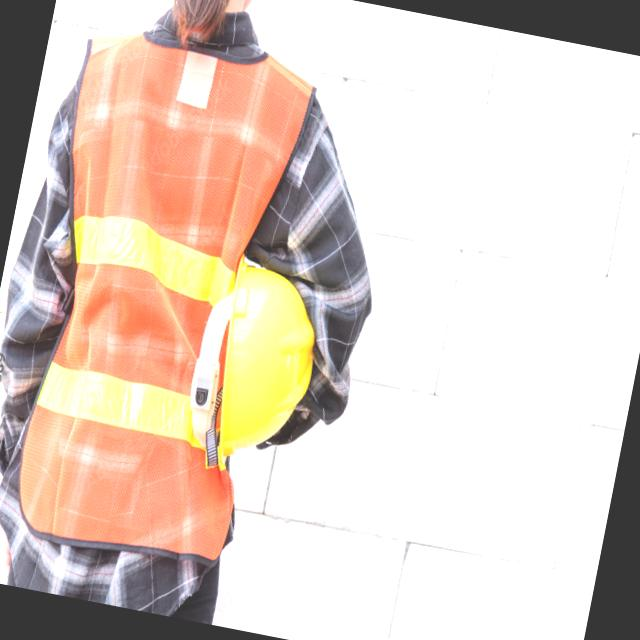helmet: (194, 245, 345, 478)
vest: (0, 0, 327, 563)
